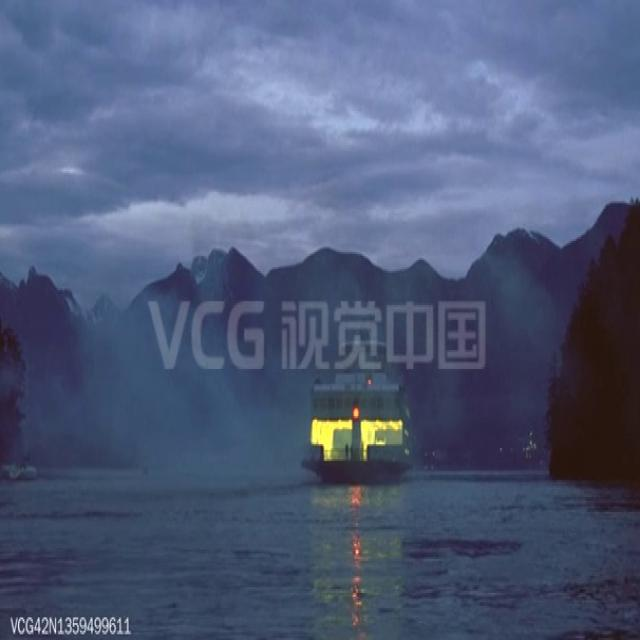passenger ship: (303, 324, 414, 476)
